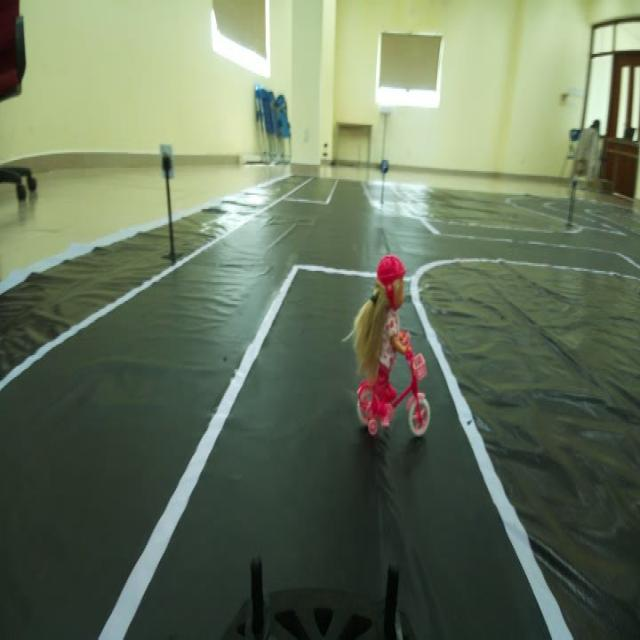pedestrian: (344, 240, 437, 435)
